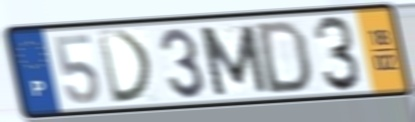3: (312, 13, 364, 94), (156, 25, 209, 101)
5: (51, 31, 103, 106)
D: (94, 28, 157, 107), (255, 18, 313, 96)
M: (195, 22, 272, 99)
